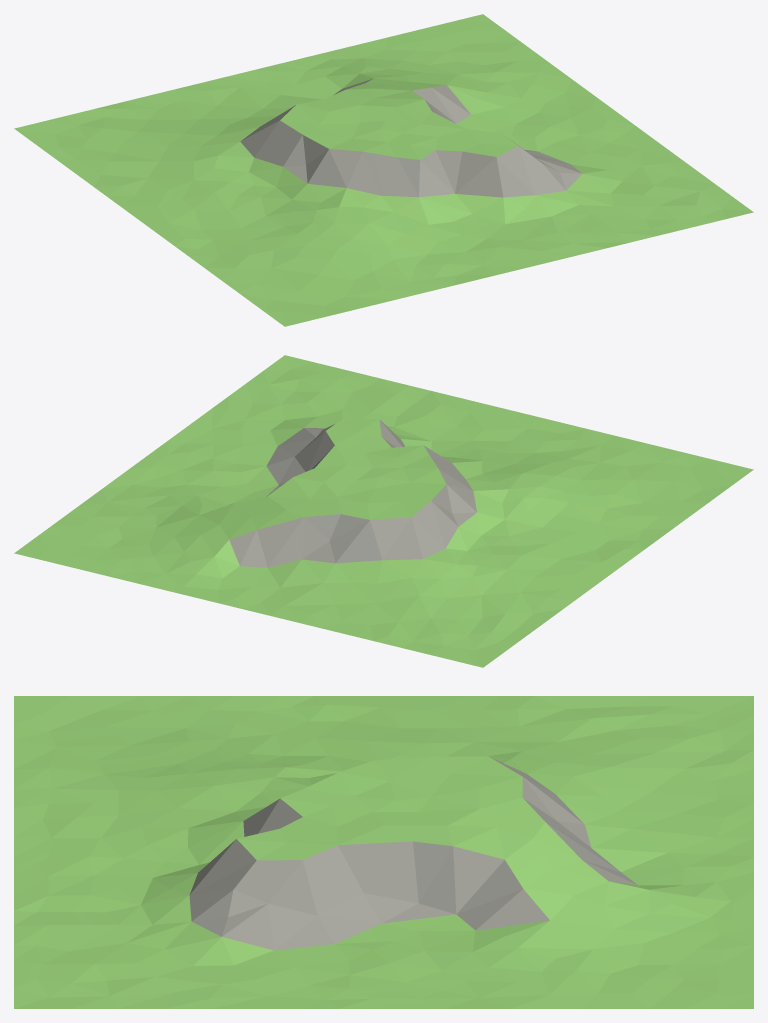
The model's file is terrain004.fbx.
3 renders of one model, top to bottom at view 1: azimuth 30°, elevation 25°; view 2: azimuth 150°, elevation 25°; view 3: azimuth 270°, elevation 25°, orthographic. The views are drawn at different scales.
Parts seen in each view (by area): view 1: CPT_Terrain_M_f_22; view 2: CPT_Terrain_M_f_22; view 3: CPT_Terrain_M_f_22.
Boxes of the visible parts, x1,y1,x2,y2 form: CPT_Terrain_M_f_22: (14,14,753,326); CPT_Terrain_M_f_22: (14,355,753,667); CPT_Terrain_M_f_22: (14,696,753,1008).
Bounding box in the file's own units: 5000 × 5000 × 418.
Materials: 1 (1 with a texture image).
